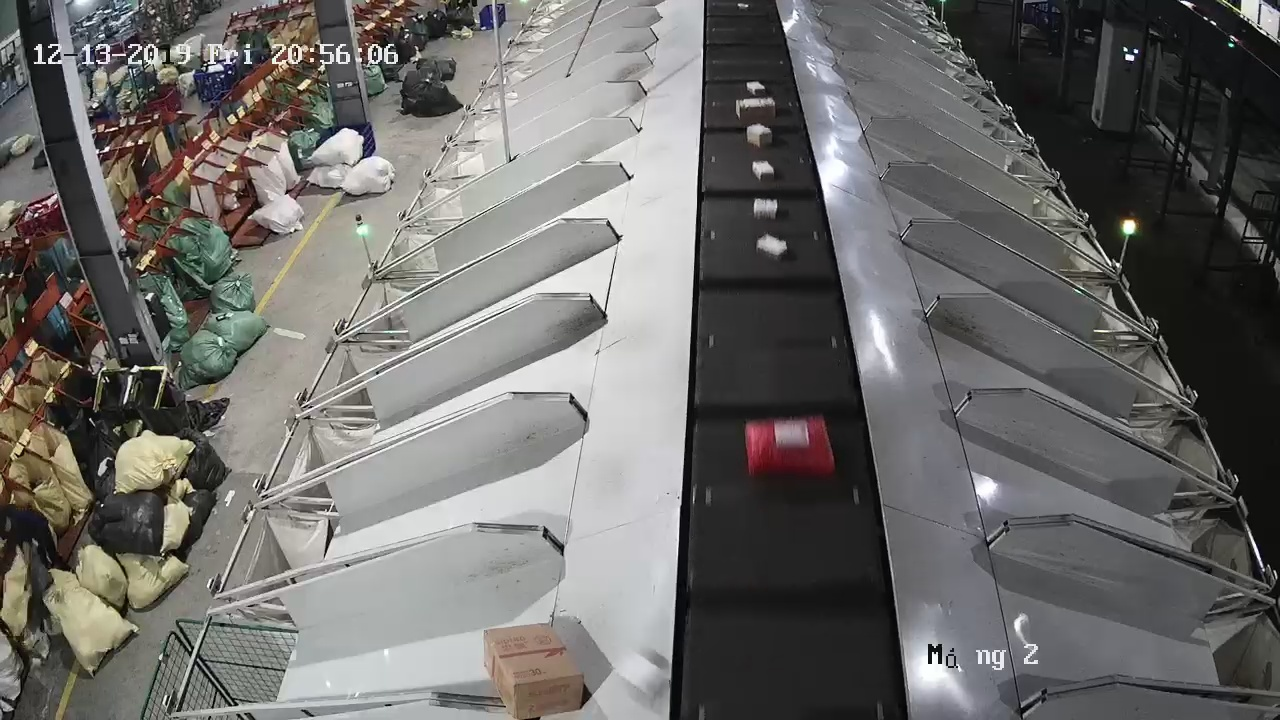parcel: (618, 652, 667, 699)
